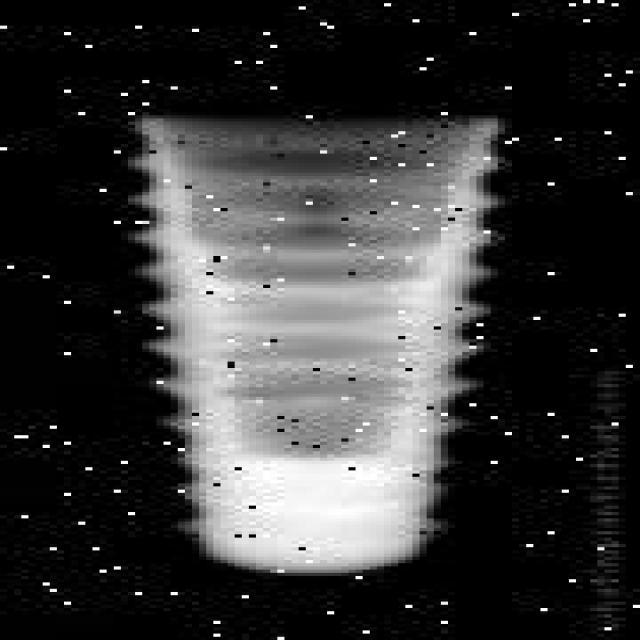Titan Implant Implant: (127, 115, 505, 582)
